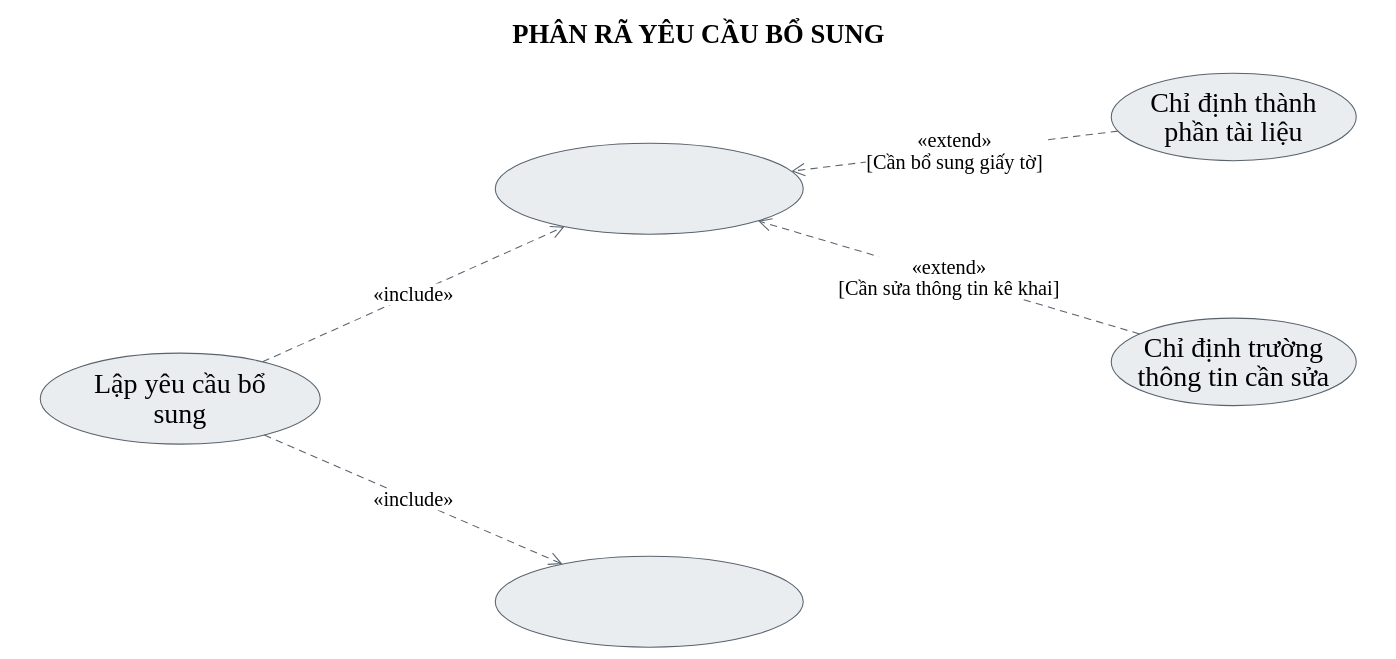
The diagram is 1396 pixels wide and 659 high, and some of its shapes have lost their labels. The shapes that lost their labels are listed below. From the top down, each one's centre as x and y in pixels, then its label:
At [648,188]: "Lập danh sách nội dung cần bổ sung".
At [648,601]: "Ghi yêu cầu và giai đoạn quay lại".
